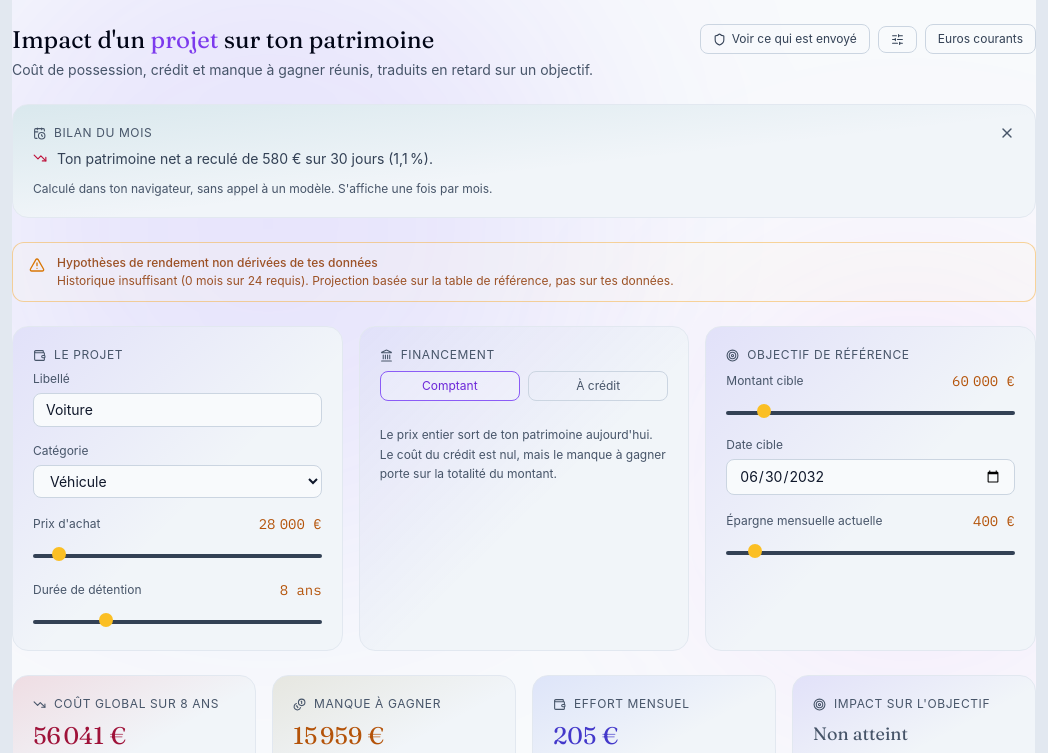
Test: Projet › n'expose les champs de crédit qu'en financement à crédit
Expected: the text "Taux du crédit" is not shown
Click the button "À crédit" at coordinates (598, 386), box [528,371,668,401]
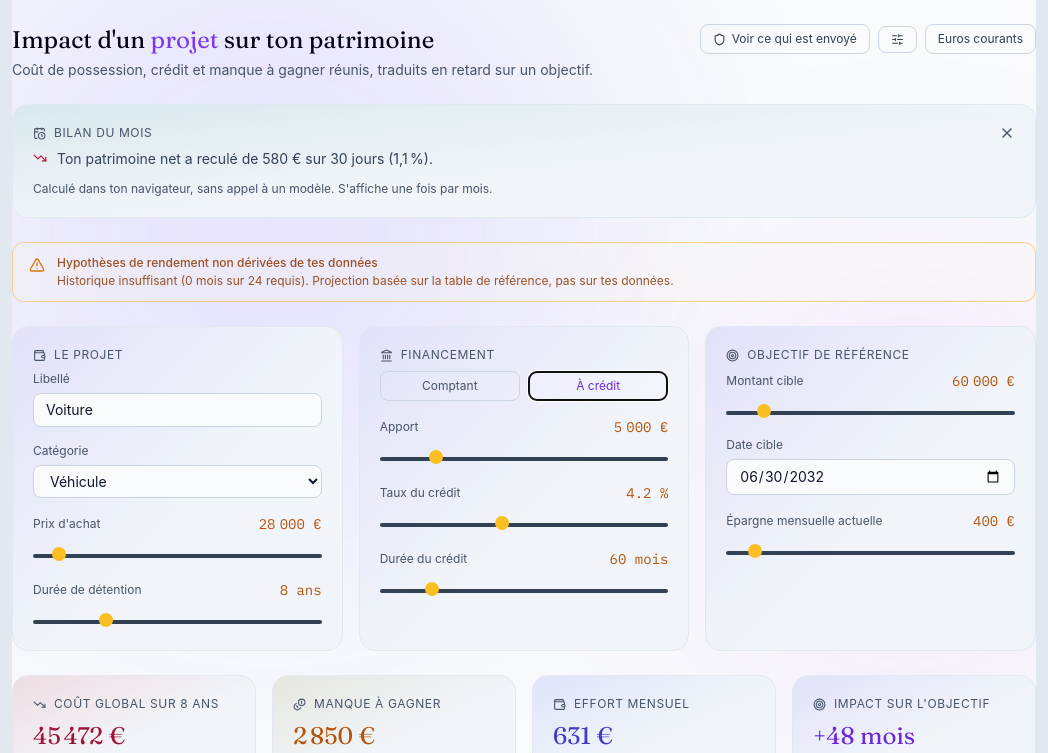
Expected: the text "Taux du crédit" is shown, [380,485,460,501]
Expected: the text "Durée du crédit" is shown, [380,551,467,567]
Expected: the text "Apport" is shown, [380,419,418,435]
